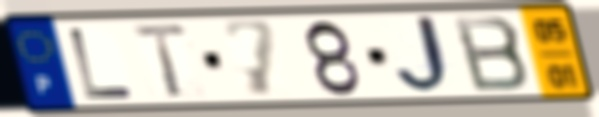7: (220, 18, 280, 101)
8: (302, 18, 363, 96)
B: (449, 14, 533, 95)
J: (393, 12, 461, 98)
L: (65, 25, 138, 102)
T: (130, 22, 192, 101)
